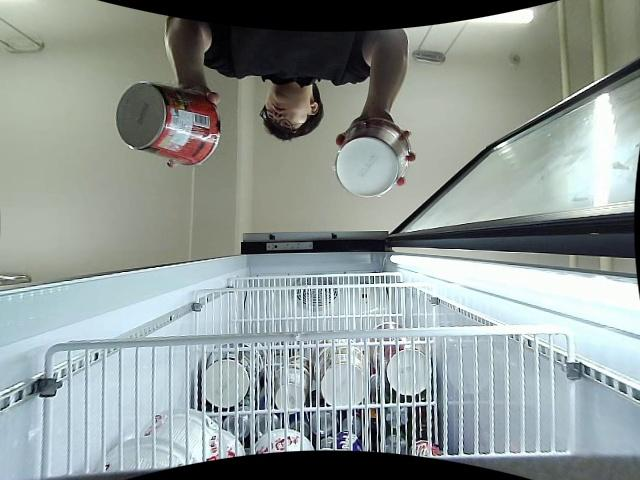00_hand: (336, 113, 416, 187), (166, 88, 221, 168)
01_shinRamen_L: (117, 82, 221, 171), (337, 119, 410, 199)
